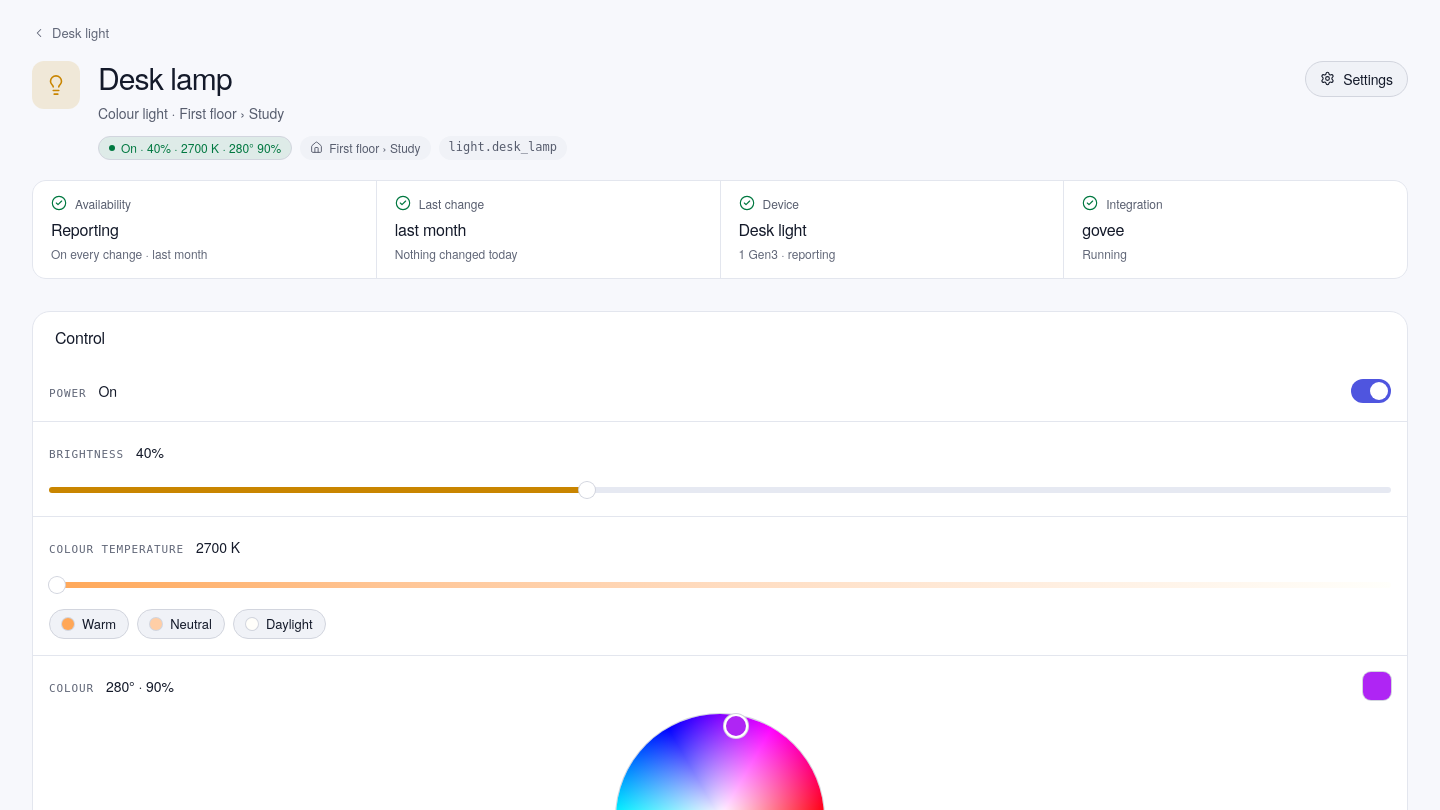
Test: EntityPage › turns a colour lamp white at once when a white is chosen
This screenshot has width=1440, height=810.
Check: the text "280° · 90%" is shown, box [106,676,174,696]
Step 1. Click the button "Daylight" → (279, 624), box [233,609,326,639]
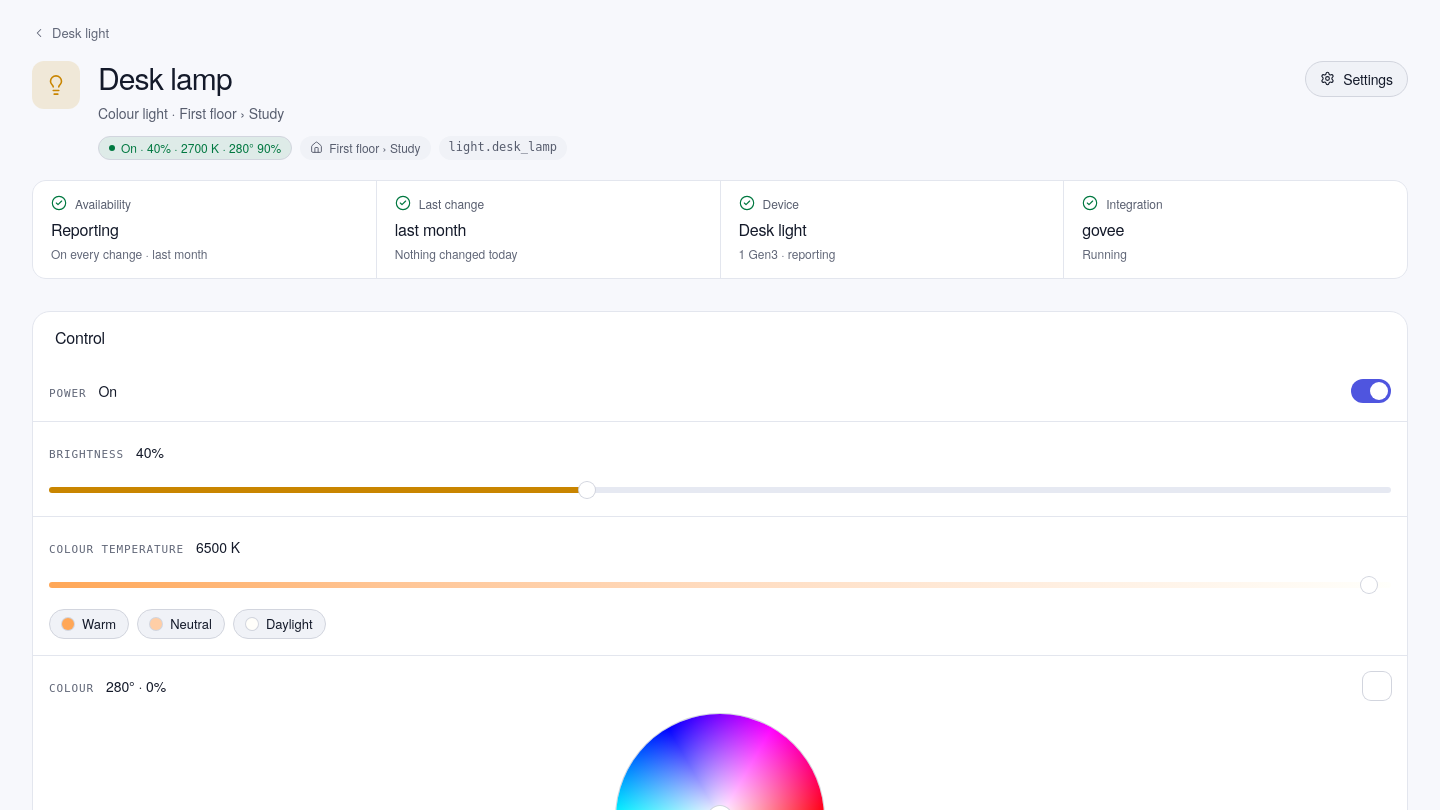
Check: the text "280° · 0%" is shown, box [106,676,166,696]
